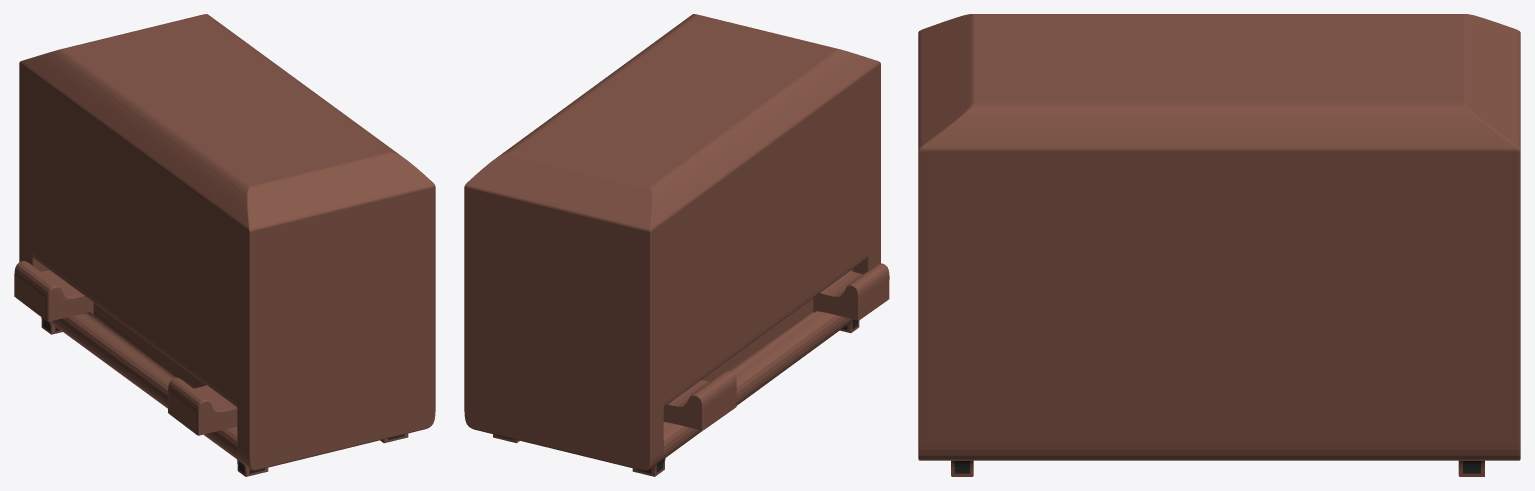
The model's file is Straw Box.fbx.
3 renders of one model, left to right at view 1: azimuth 30°, elevation 25°; view 2: azimuth 150°, elevation 25°; view 3: azimuth 270°, elevation 25°, orthographic. The views are drawn at different scales.
Parts seen in each view (by area): view 1: Cube; view 2: Cube; view 3: Cube.
Boxes of the visible parts, box(x1,y1,x2,y2) form: Cube: box(14, 14, 435, 476); Cube: box(464, 14, 889, 476); Cube: box(918, 14, 1520, 476).
Size of the model in its own units: 381 by 473 by 703.
